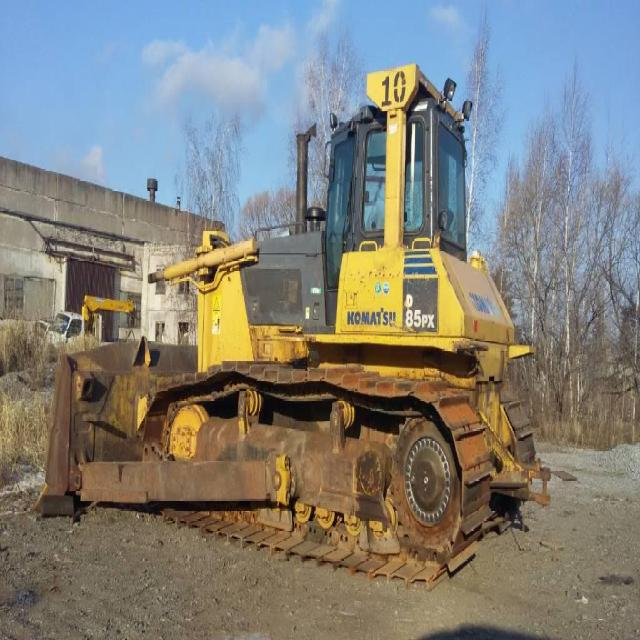buldozerpayloadergrader: (40, 38, 549, 598)
